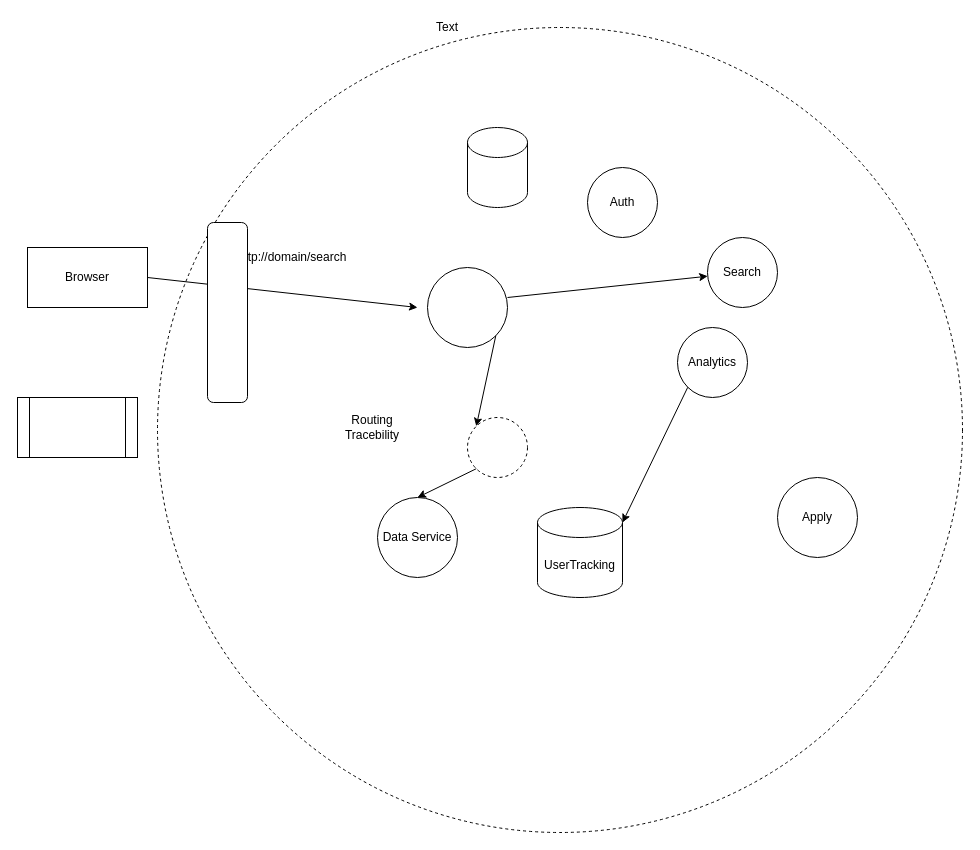
Image size: 980x850. Some labels were removed from this diagram. The centre of each missing label's shape, as x and y in pixels:
API: [77,427]
API Gateway Service: [467,307]
Kafka: [497,447]
Redis Cache: [497,167]
